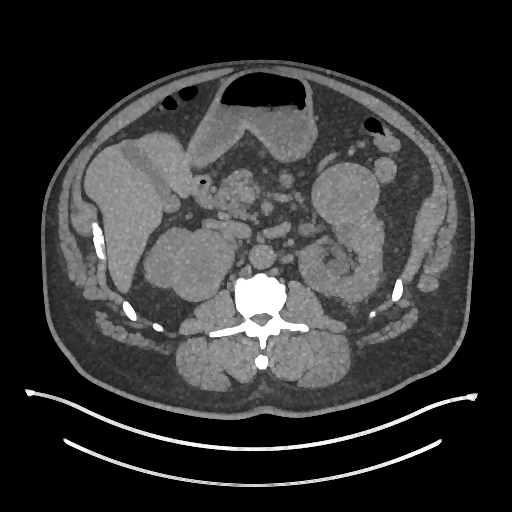Lesion: (311, 159, 380, 225)
